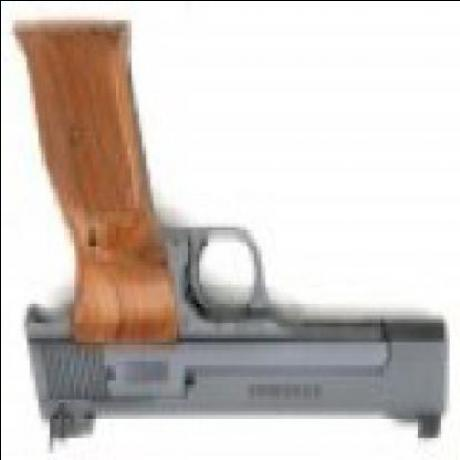weapon: (23, 16, 447, 453)
